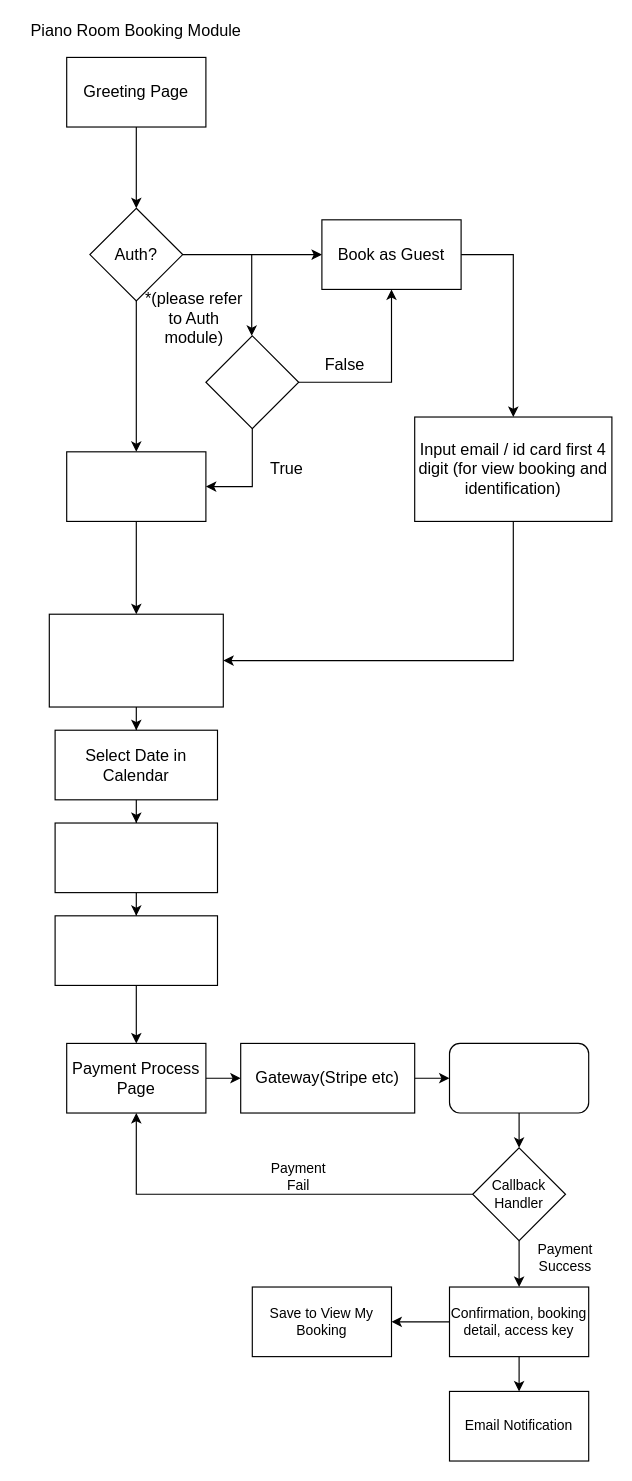
Some shapes in this 632 by 1481 pixel diagram are drawn without their labels. The shapes that lost their labels are listed below. From the top down, each one's box as (x1, y1, x2, y2) in pixels, then its label:
(205, 335, 299, 429): Register?
(66, 451, 206, 521): Member Booking
(48, 613, 223, 707): Studio Booking Page
(54, 822, 217, 893): Available Time Slots
(54, 915, 217, 985): input additional Data & Requirement, Terms
(448, 1042, 589, 1113): Payment Providers (payme, FPS, card ...etc)
